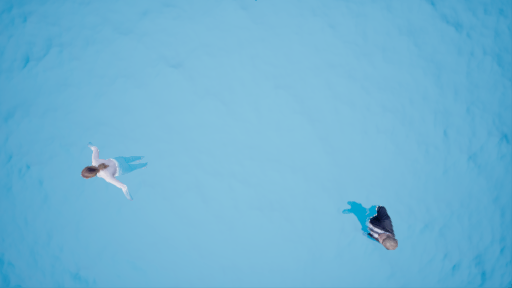person: (78, 132, 150, 202), (338, 200, 408, 252)
